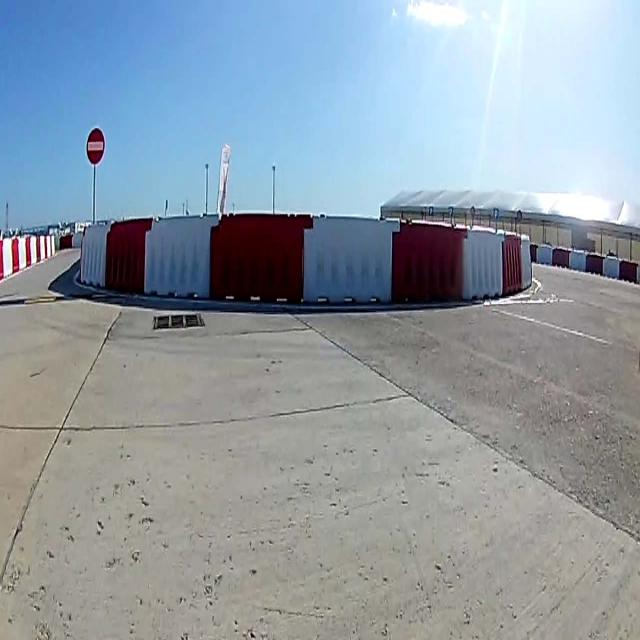girisyok: (86, 127, 104, 166)
